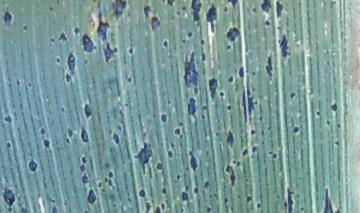tarspot: (178, 47, 202, 98), (93, 10, 115, 45), (132, 138, 154, 173), (318, 184, 342, 213), (240, 87, 259, 122), (204, 2, 221, 37), (281, 184, 299, 213), (276, 33, 293, 61), (75, 33, 98, 53), (188, 1, 204, 28), (185, 149, 203, 173), (182, 96, 201, 118), (222, 163, 239, 187), (205, 74, 219, 103), (1, 187, 19, 209), (224, 24, 243, 44), (100, 42, 118, 63), (262, 53, 276, 80), (63, 52, 79, 75), (112, 1, 130, 20), (25, 157, 42, 176), (223, 128, 237, 150), (85, 186, 101, 205), (81, 101, 96, 121), (1, 8, 16, 27), (78, 125, 92, 145), (272, 1, 287, 19), (61, 71, 78, 85), (108, 130, 122, 146), (176, 189, 192, 203), (39, 137, 55, 150), (142, 4, 154, 21), (136, 186, 150, 200), (259, 1, 273, 15), (78, 172, 91, 187), (328, 99, 341, 114), (266, 148, 281, 161), (96, 179, 108, 195), (148, 15, 159, 32), (105, 178, 119, 191), (171, 126, 185, 139), (159, 110, 170, 126), (57, 30, 69, 44), (290, 122, 302, 136), (236, 65, 247, 80), (1, 113, 14, 125), (77, 162, 90, 174), (197, 52, 210, 64), (222, 101, 235, 113), (226, 73, 237, 87), (245, 127, 259, 138), (244, 193, 256, 205), (79, 153, 90, 166), (159, 38, 172, 49), (199, 179, 212, 190), (254, 200, 267, 211), (155, 159, 165, 173), (227, 1, 241, 11), (261, 18, 275, 28), (65, 127, 76, 139), (184, 28, 195, 40), (240, 146, 251, 158), (248, 144, 260, 155), (71, 26, 82, 37), (106, 169, 117, 180), (314, 108, 325, 119), (53, 54, 63, 66), (144, 201, 154, 213), (204, 203, 216, 213), (166, 147, 174, 161), (125, 74, 135, 85), (331, 138, 341, 149), (216, 89, 228, 98), (108, 200, 120, 209), (164, 1, 177, 9), (13, 78, 23, 88), (48, 36, 59, 45), (4, 139, 13, 150), (126, 45, 135, 56), (115, 122, 124, 133), (220, 5, 231, 14), (250, 5, 259, 16), (287, 91, 298, 100), (175, 120, 189, 127), (19, 25, 31, 33), (168, 141, 180, 149), (230, 159, 242, 167), (39, 127, 48, 137), (180, 3, 189, 13), (160, 186, 169, 196), (159, 201, 168, 211), (225, 43, 234, 53), (334, 120, 344, 129), (58, 106, 69, 114), (49, 205, 60, 213), (80, 57, 92, 64), (326, 116, 333, 128), (63, 137, 72, 146), (154, 204, 163, 213), (183, 183, 192, 192), (221, 197, 230, 206), (200, 103, 210, 111), (44, 5, 55, 12), (24, 81, 35, 88), (165, 97, 173, 106), (81, 207, 92, 213), (174, 173, 182, 181), (250, 70, 257, 79), (124, 101, 130, 111), (198, 40, 208, 46), (213, 132, 222, 138), (179, 206, 186, 212), (158, 141, 166, 146)
